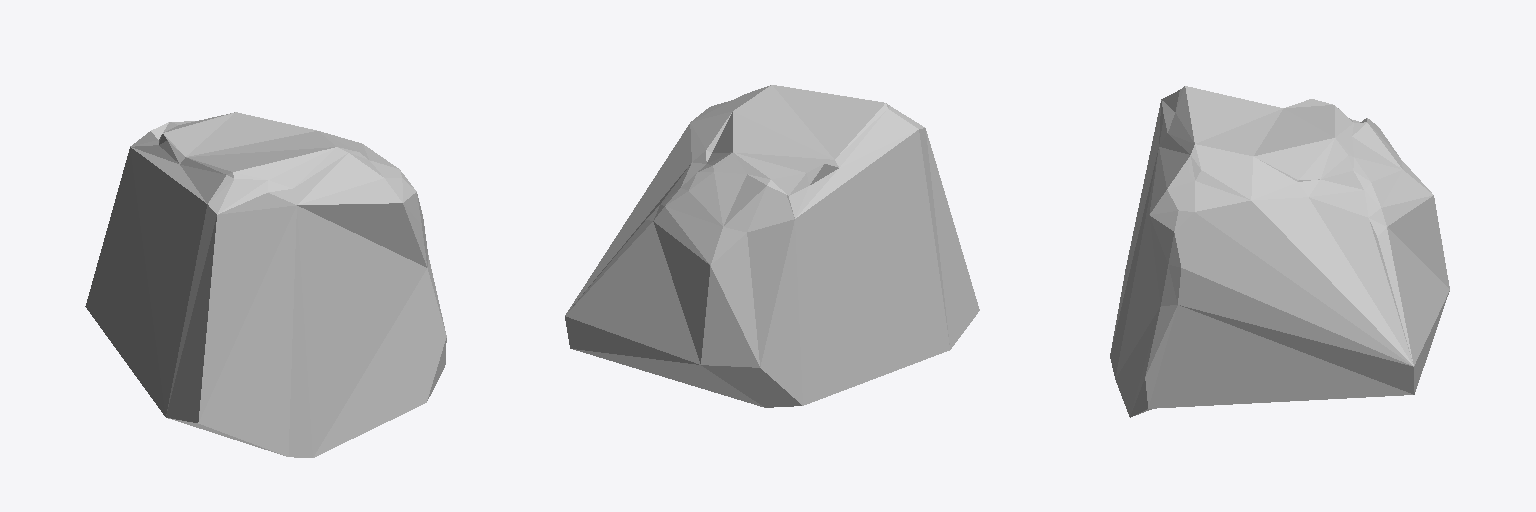
The model's file is Rock1.obj.
The picture shows the model from 3 angles: view 1: azimuth 30°, elevation 25°; view 2: azimuth 150°, elevation 25°; view 3: azimuth 270°, elevation 25°; orthographic projection.
Parts seen in each view (by area): view 1: Cube; view 2: Cube; view 3: Cube.
Part boxes in pixels (left/top/right/bottom): Cube: left=85, top=112, right=446, bottom=457; Cube: left=565, top=85, right=979, bottom=407; Cube: left=1110, top=86, right=1449, bottom=417.
Bounding box in the file's own units: 2.87 × 2.73 × 3.1.